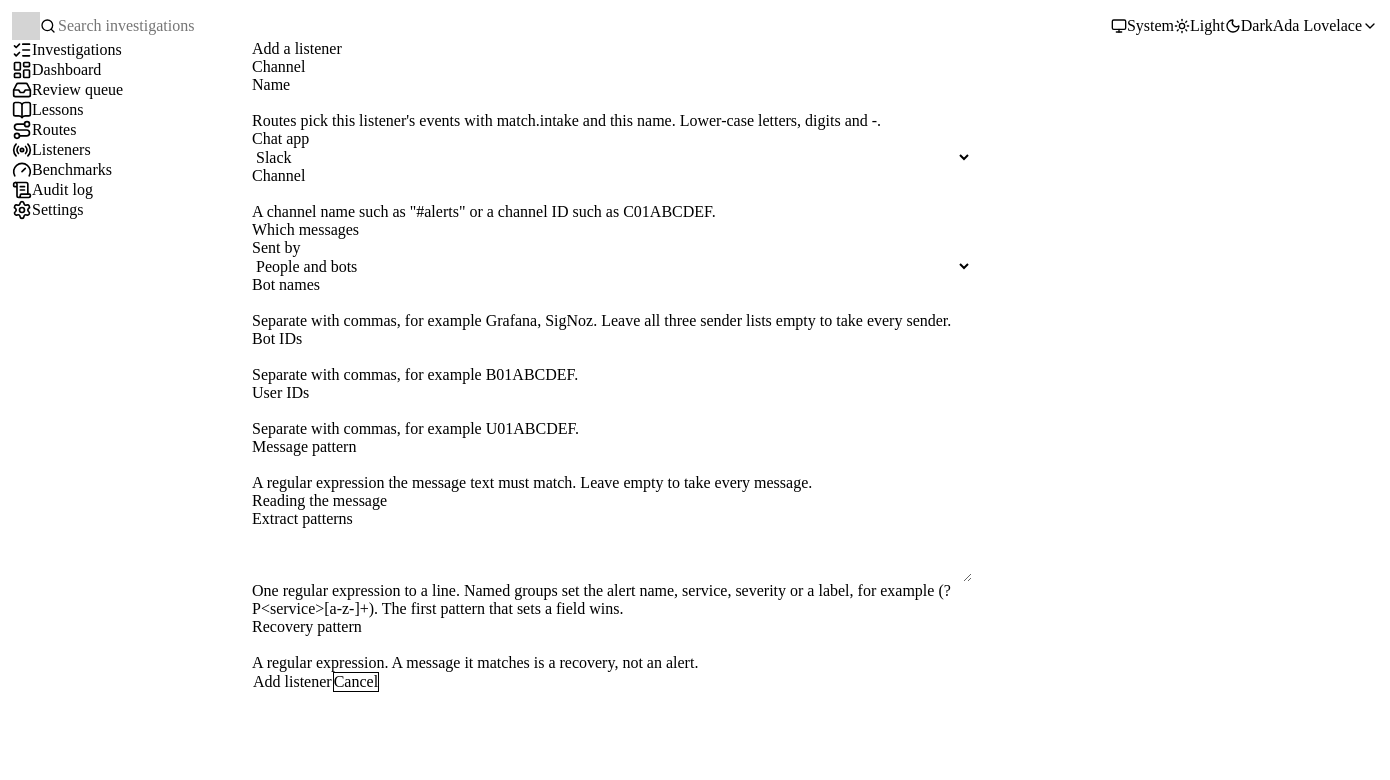
Test: the listener form › asks for a name and a channel without sending anything
Click the button "Add listener" at (292, 682), box [252, 672, 333, 692]
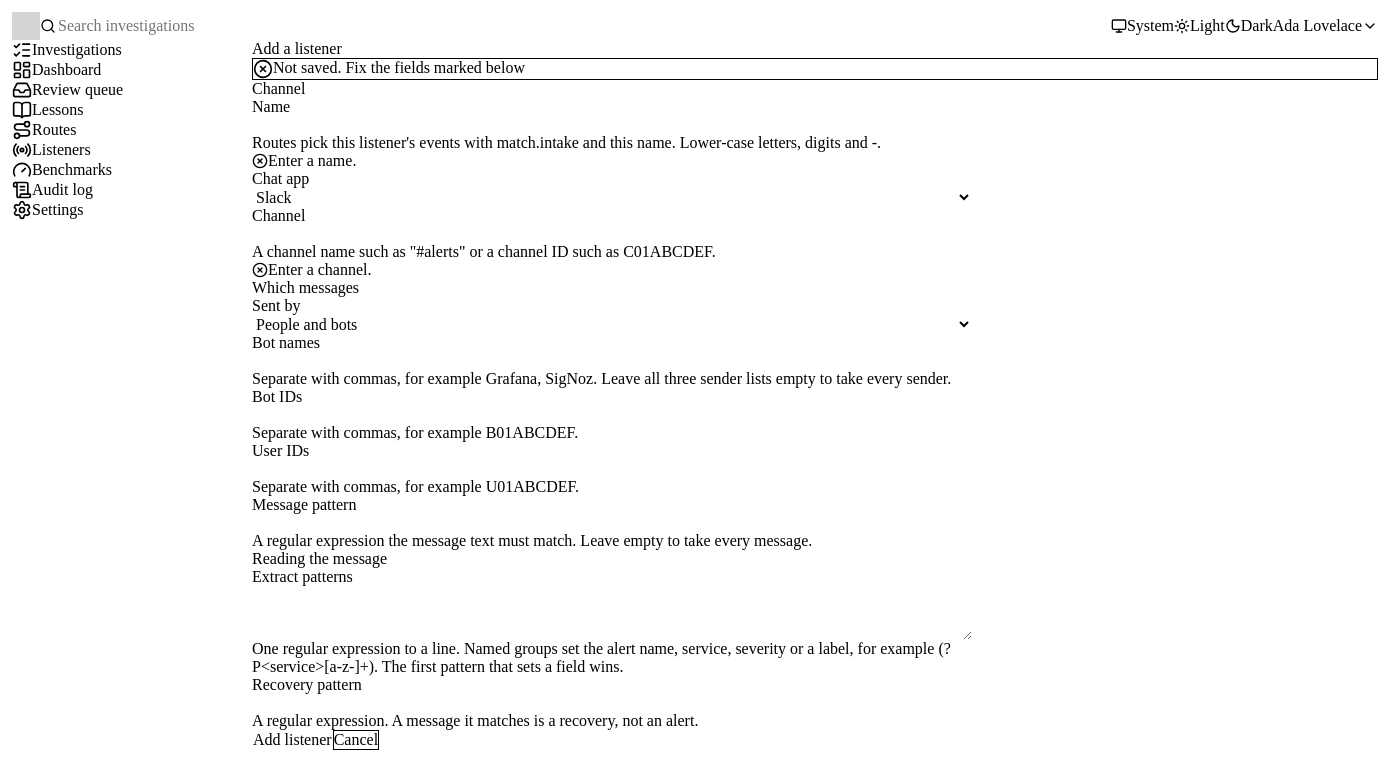
Now the text "Enter a name." is shown, box [252, 152, 356, 169]
Now the text "Enter a channel." is shown, box [252, 261, 372, 278]
Now the message reads "Not saved. Fix the fields marked below", box [273, 59, 525, 76]
